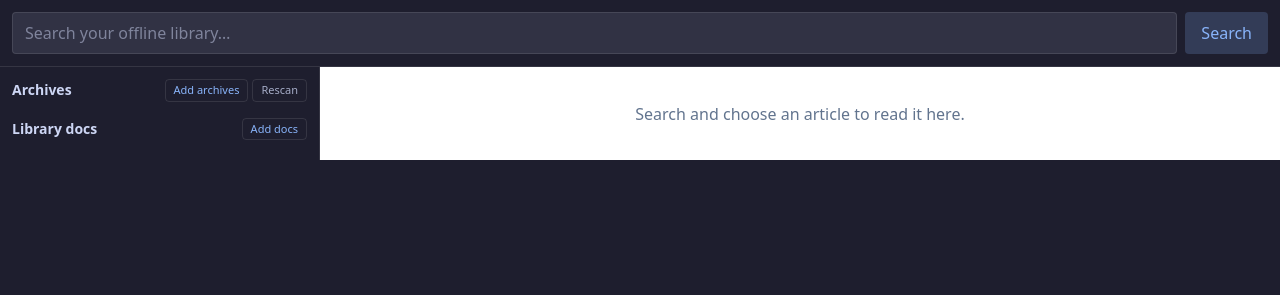
Test case: shows which archive each result came from
This screenshot has width=1280, height=295.
Type "segfault" into the field named "Search offline library" at (595, 33), box [12,12,1177,54]
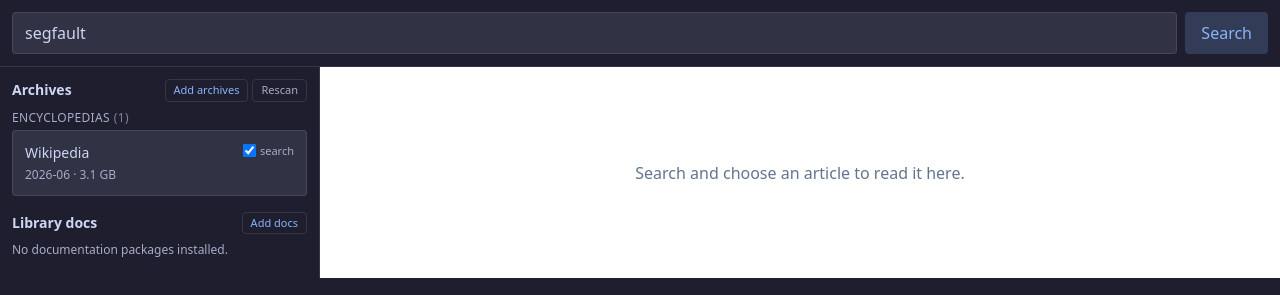
Click the button "Search" at (1227, 33), box [1185,12,1268,54]
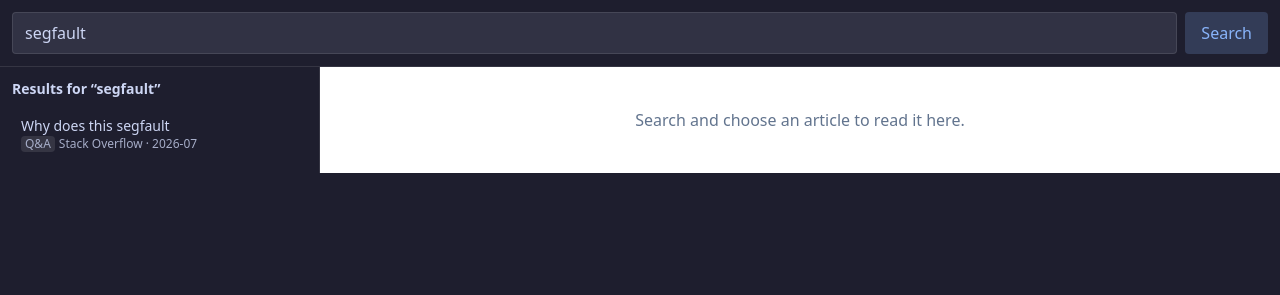
Expected: the text "Why does this segfault" is shown, [21,116,170,135]
Expected: the text "Q&A" is shown, [21,136,55,152]
Expected: the text "Stack Overflow · 2026-07" is shown, [59,136,197,152]
